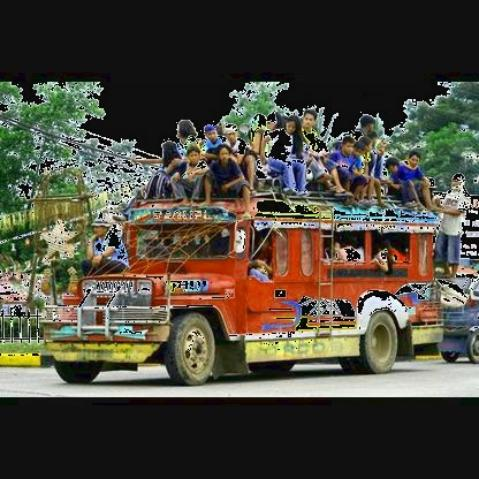jeepney: (44, 142, 442, 378)
